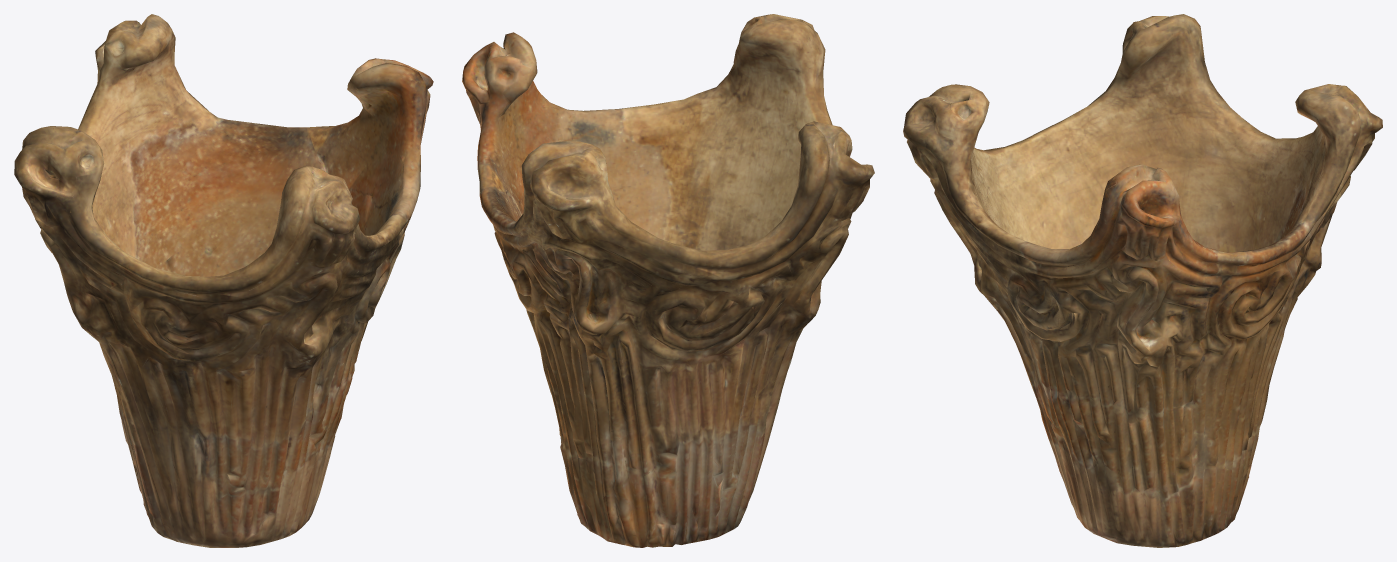
3 views of the same model, side by side, from view 1: azimuth 30°, elevation 25°; view 2: azimuth 150°, elevation 25°; view 3: azimuth 270°, elevation 25° (orthographic). The views are drawn at different scales.
Visible parts, largest first — view 1: NM0001_low; view 2: NM0001_low; view 3: NM0001_low.
Part boxes in pixels (<box>): NM0001_low: <box>14,14,433,547</box>; NM0001_low: <box>462,14,874,547</box>; NM0001_low: <box>903,14,1382,547</box>.
Bounding box in the file's own units: 224 × 227 × 232.
1 material, 1 textured.
